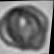correct: (0, 2, 52, 54)
